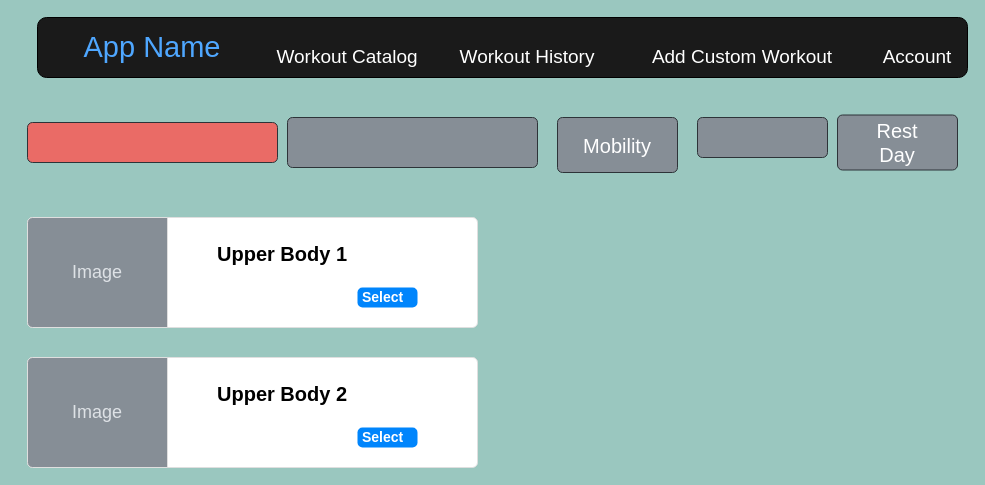
This 985x485 diagram has some shape labels left out. The centre of each missing label's shape, as x and y in pixels:
"Cardio" belongs at point (762, 137).
"Lower Body Strength" belongs at point (412, 142).
"Upper Body Strength" belongs at point (152, 142).
